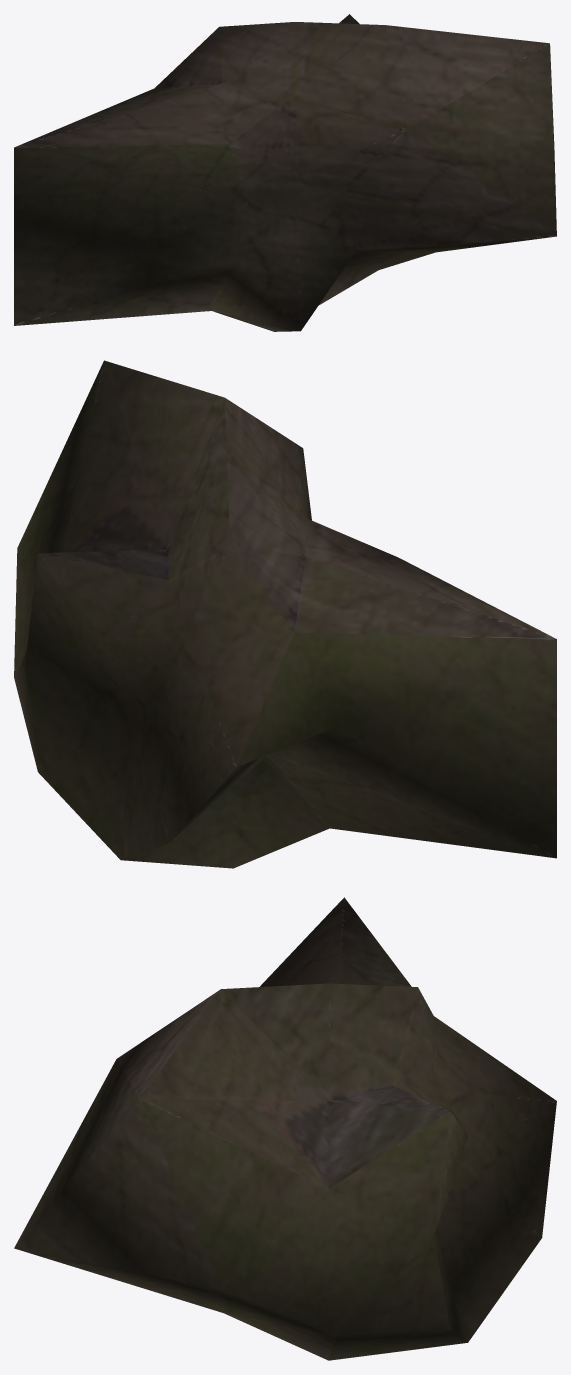
File: Stein_3.fbx
The picture shows the model from 3 angles, top to bottom: view 1: azimuth 30°, elevation 25°; view 2: azimuth 150°, elevation 25°; view 3: azimuth 270°, elevation 25°; orthographic projection. The views are drawn at different scales.
Visible parts, largest first — view 1: Stein_3; view 2: Stein_3; view 3: Stein_3.
Boxes of the visible parts, x1,y1,x2,y2 form: Stein_3: (14,14,556,331); Stein_3: (14,360,556,868); Stein_3: (14,897,556,1360).
Size of the model in its own units: 0.8604 by 0.5549 by 0.6777.
Materials: 1 (1 with a texture image).
